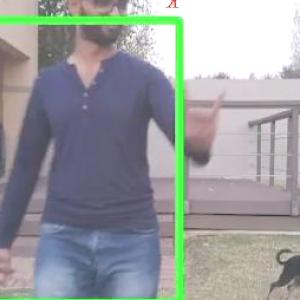takeoff-hand: (174, 85, 228, 162)
